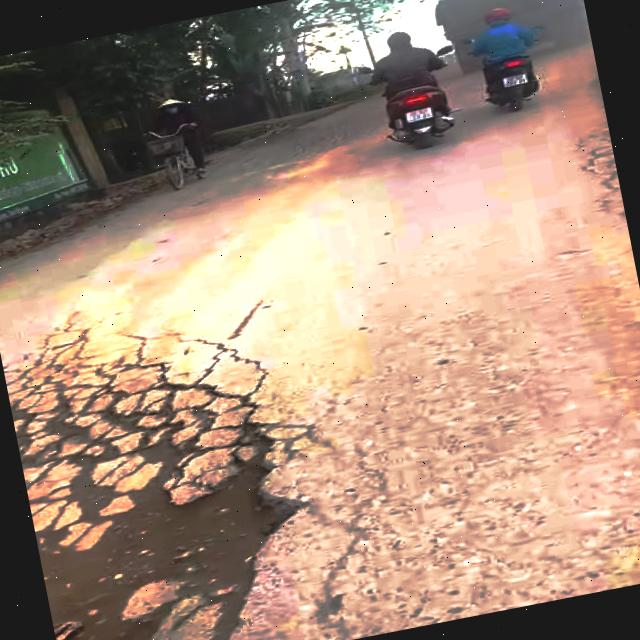pothole: (4, 319, 339, 640)
